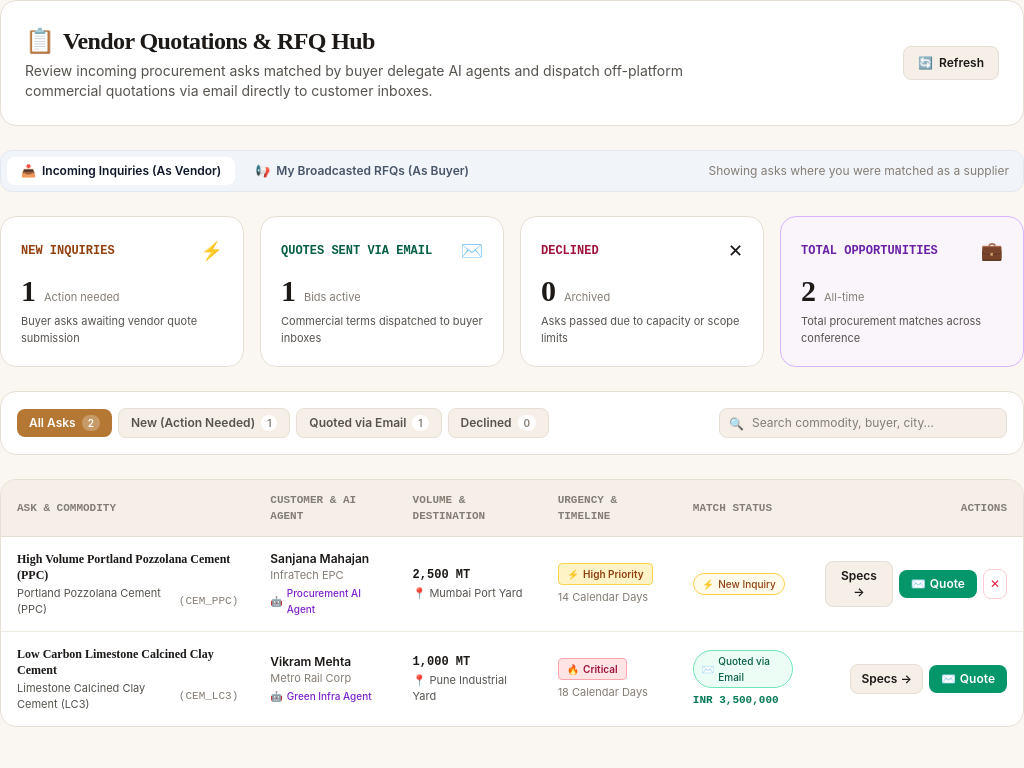
Scenario: Vendor Quotes Hub & Inquiries Portal (Quote Subphase 5) › submits quote via email and displays confirmation toast
Later steps or results of the test are not shown.
Click the text "Quote" in the row of "InfraTech EPC": [947, 584] box [930,576,965,592]
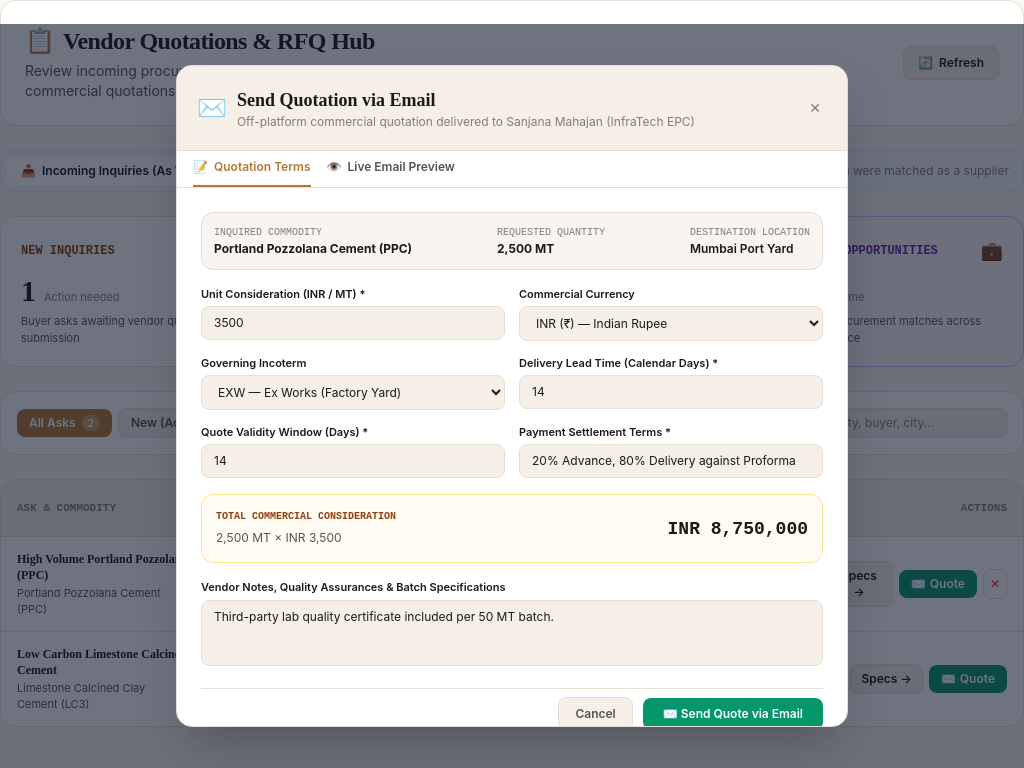
Check: the element with test id "send-quote-email-modal" is shown
